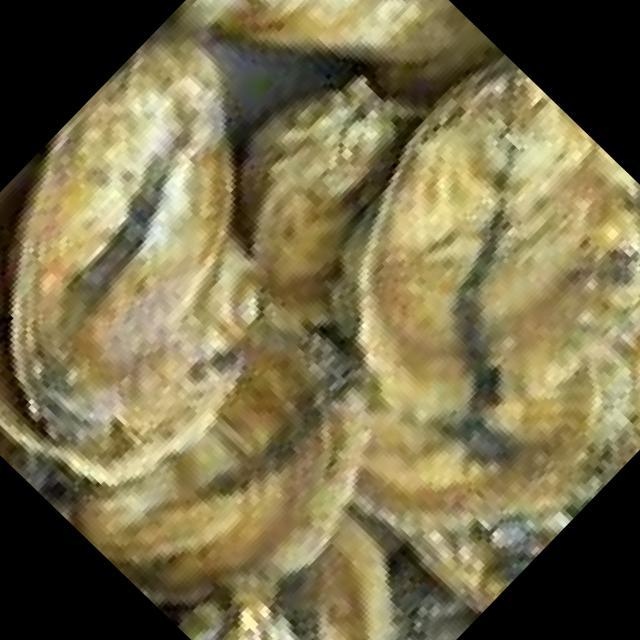Oyster- Indeterminate: (347, 57, 640, 420), (4, 35, 260, 435), (66, 309, 372, 613), (0, 135, 264, 487), (350, 341, 632, 529), (384, 429, 640, 617), (238, 81, 416, 332), (178, 512, 397, 640), (195, 0, 490, 62)
